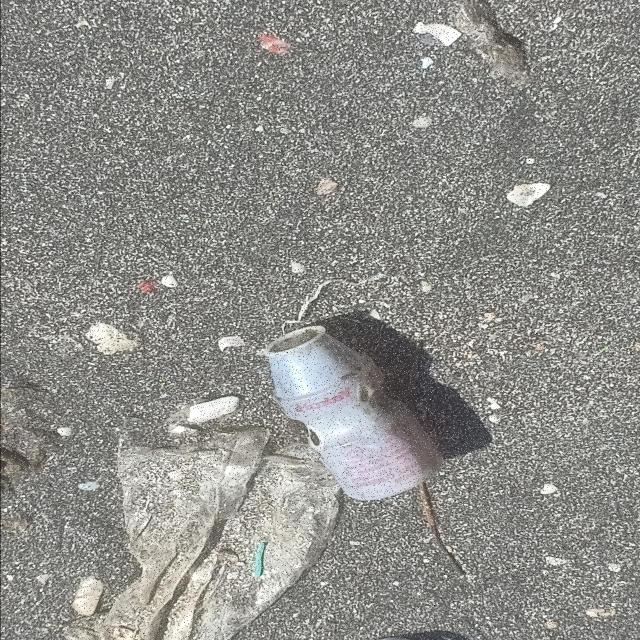plastic_waste: (264, 326, 445, 504)
